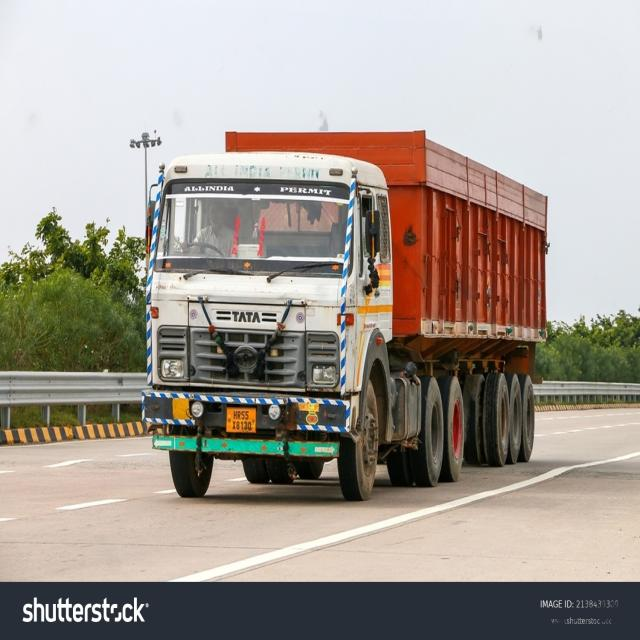truck: (142, 131, 548, 501)
